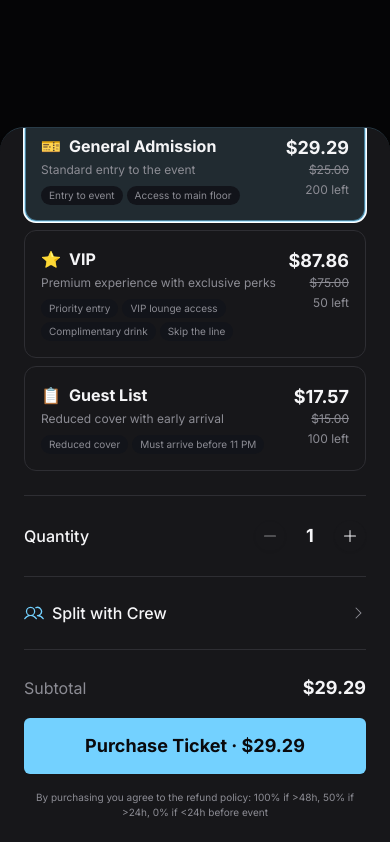
Test case: TicketPurchaseSheet › shows an error message and does NOT redirect on failure
(page scrolled)
Click the button "Purchase Ticket · $29.29" at (195, 746), box [24,718,366,774]
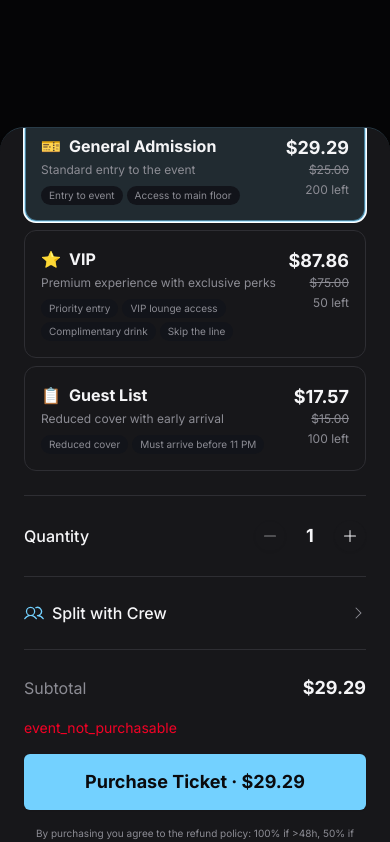
Expected: the message reads "event_not_purchasable", [24,719,177,736]
